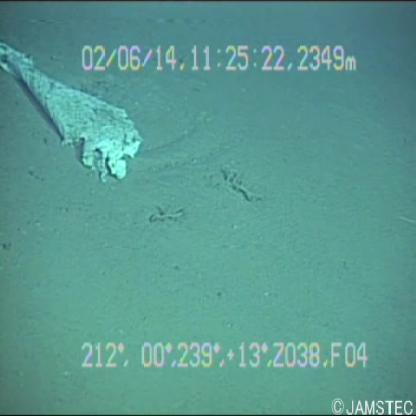Rác: (1, 37, 149, 196)
